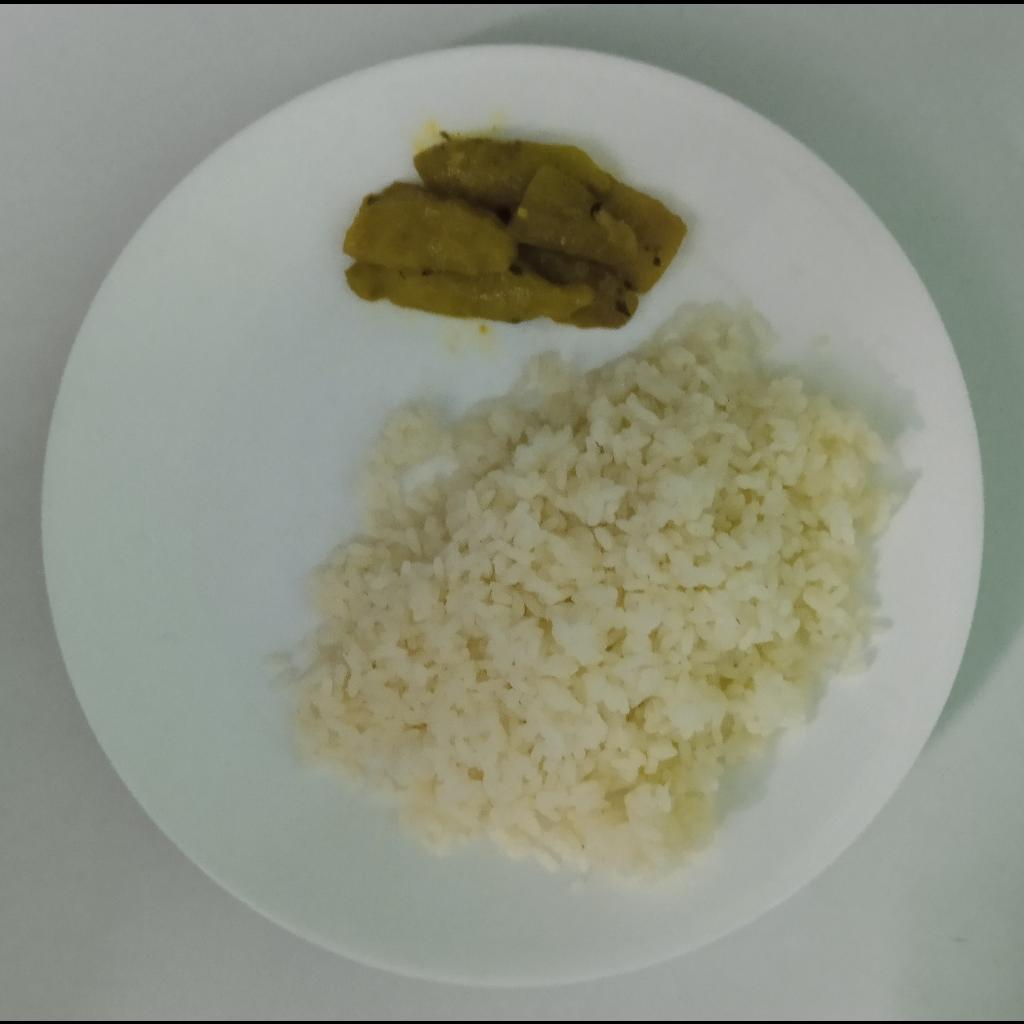dundol: (343, 135, 688, 327)
rice: (265, 301, 899, 884)
